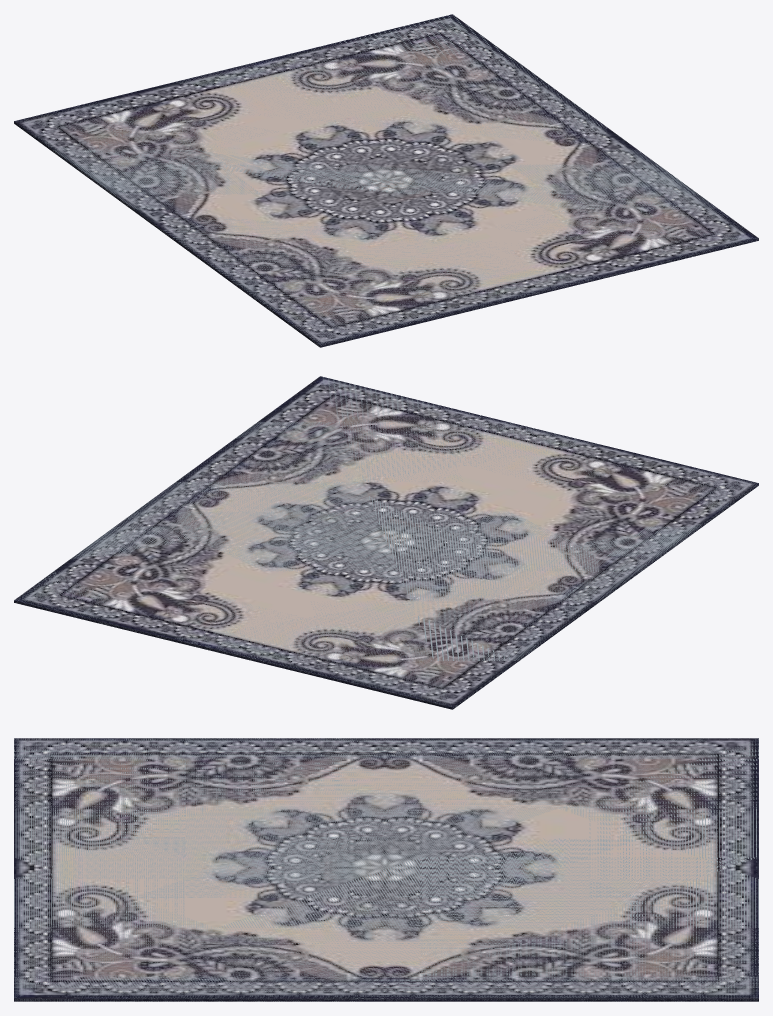
The picture shows the model from 3 angles, top to bottom: view 1: azimuth 30°, elevation 25°; view 2: azimuth 150°, elevation 25°; view 3: azimuth 270°, elevation 25°; orthographic projection. The views are drawn at different scales.
Parts seen in each view (by area): view 1: SketchUp; view 2: SketchUp; view 3: SketchUp.
Part boxes in pixels (box(x1,y1,x2,y2)): SketchUp: box(14, 14, 758, 347); SketchUp: box(14, 376, 758, 709); SketchUp: box(14, 738, 758, 1001).
Bounding box in the file's own units: 75.2 × 90.94 × 0.3937.
2 materials, 1 textured.
